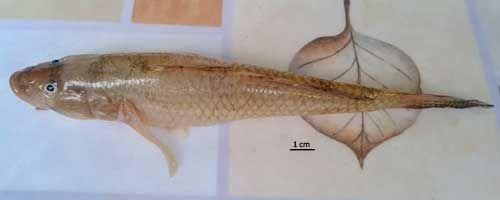Goby: (5, 51, 493, 178)
